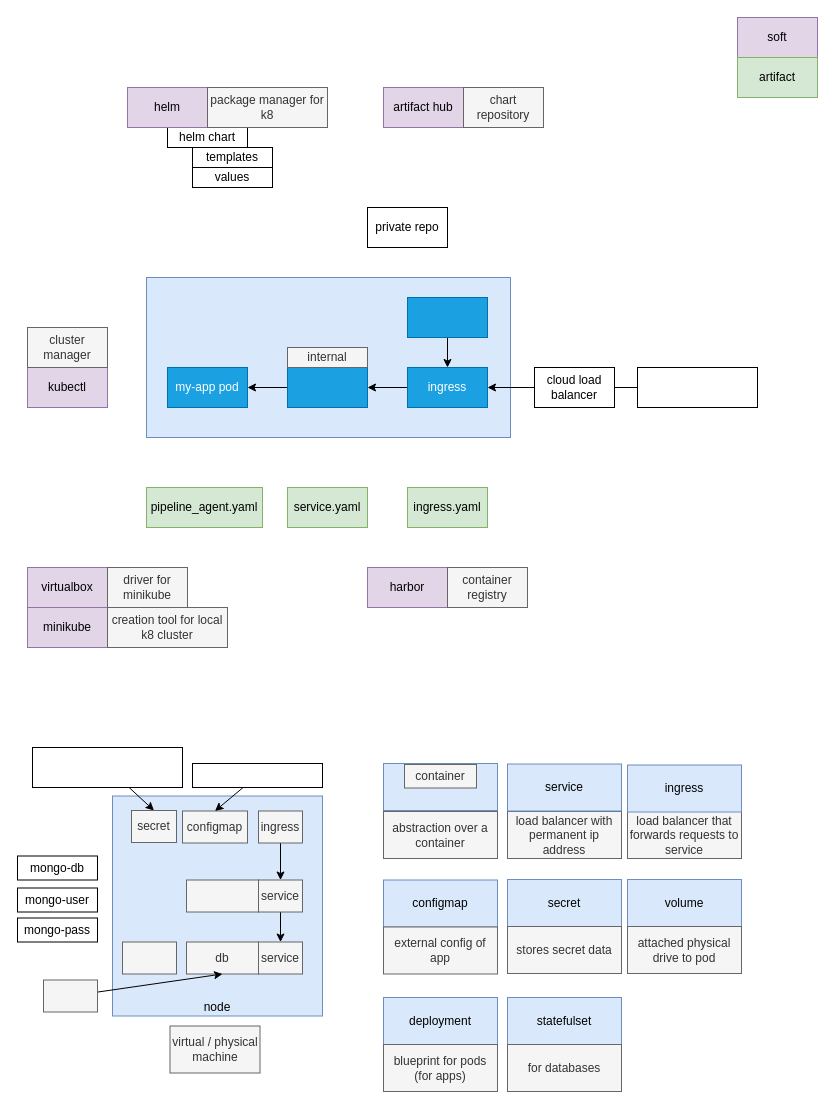
This 835x1109 diagram has some shape labels left out. Each missing label, with the box of its shape:
DB_URL = mongo-db: (192, 762, 322, 788)
DB_USER = mongo-user DB_PASS = mongo-pass: (32, 746, 182, 788)
https://my-app.com: (636, 366, 758, 408)
ingress controller pod: (406, 296, 488, 338)
k8 cluster: (146, 276, 510, 438)
local volume: (122, 941, 176, 974)
my-app: (186, 879, 258, 912)
my-app service: (286, 366, 368, 408)
pod: (382, 762, 498, 810)
remote volume: (42, 979, 98, 1012)
